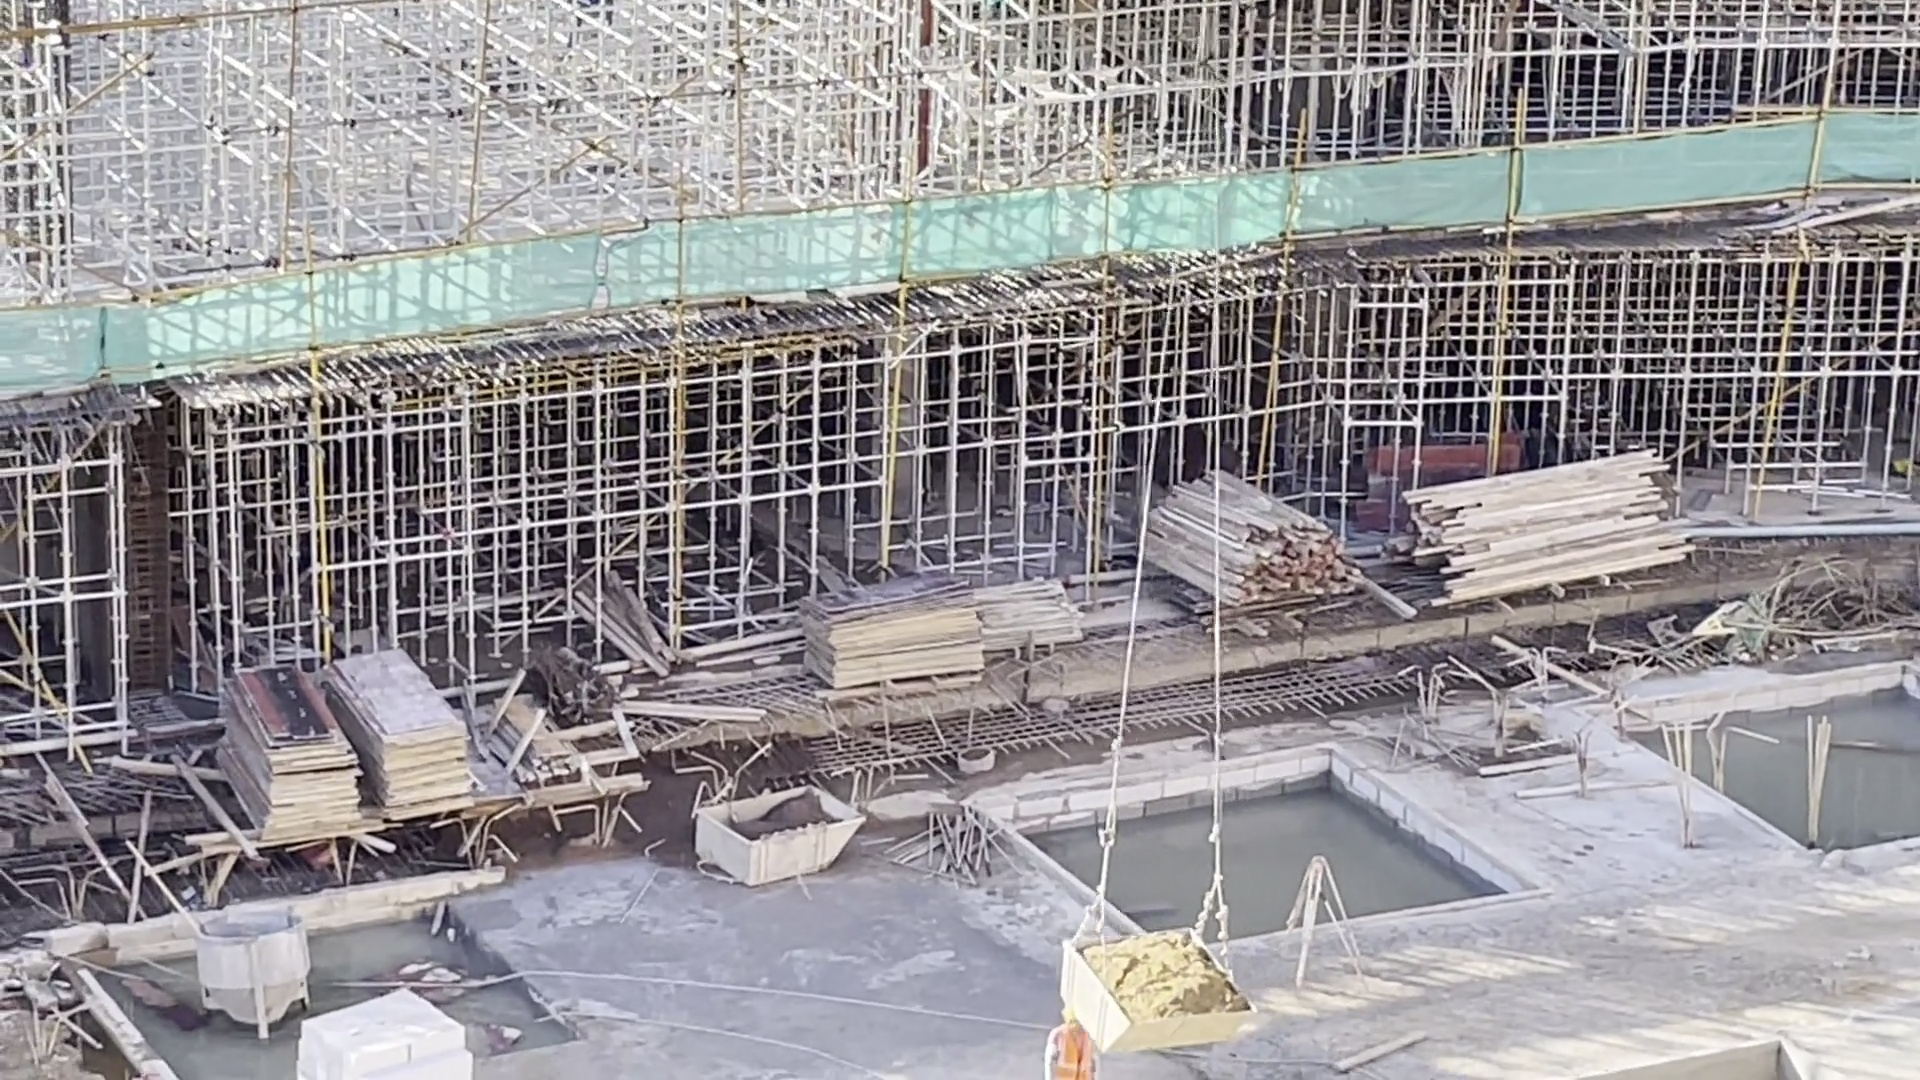board: (320, 640, 484, 827), (208, 659, 367, 851), (785, 568, 992, 702)
brick: (278, 982, 471, 1080)
hopper: (1059, 926, 1255, 1052), (688, 781, 855, 885), (196, 909, 315, 1043)
vest: (1050, 1027, 1095, 1080)
wood: (1400, 448, 1698, 601), (1145, 468, 1369, 609)
